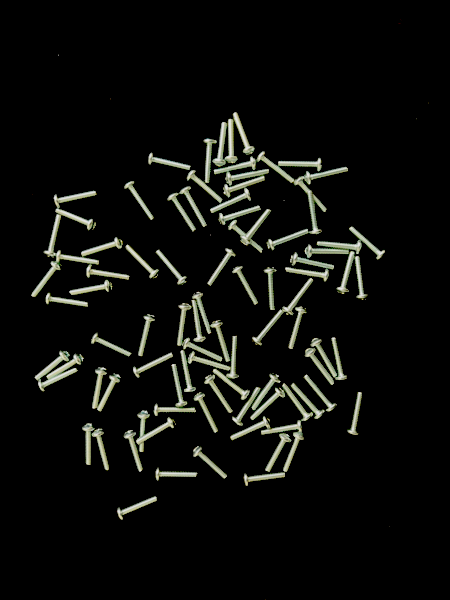longscrew: (293, 178, 334, 217), (256, 151, 298, 186), (347, 224, 387, 259), (233, 383, 263, 428), (281, 281, 317, 317), (137, 414, 175, 448), (155, 246, 188, 285), (192, 446, 231, 479), (228, 267, 258, 309), (251, 387, 286, 423), (305, 347, 334, 389), (307, 373, 336, 415), (166, 192, 198, 230), (180, 187, 212, 225), (126, 242, 158, 280), (252, 371, 279, 416), (243, 207, 271, 249), (93, 331, 135, 359), (204, 251, 236, 287), (205, 375, 233, 416), (212, 369, 249, 400), (218, 199, 262, 225), (311, 336, 338, 378), (28, 264, 60, 299), (134, 351, 174, 379), (282, 382, 310, 421), (123, 184, 155, 218), (230, 220, 261, 255), (293, 380, 321, 418), (229, 414, 267, 442), (252, 314, 285, 346), (211, 186, 250, 213), (39, 366, 77, 393), (333, 250, 356, 294), (97, 375, 125, 411), (33, 351, 70, 378), (45, 355, 82, 382), (199, 140, 222, 182), (223, 337, 246, 379), (222, 120, 244, 163), (208, 122, 230, 165), (209, 319, 231, 362), (188, 299, 210, 342), (136, 314, 158, 357), (176, 351, 198, 394), (166, 363, 188, 406), (117, 498, 158, 521), (234, 111, 256, 153), (194, 293, 216, 335), (172, 305, 194, 347), (42, 215, 63, 259), (196, 393, 218, 434), (75, 239, 124, 257), (49, 210, 98, 228), (151, 468, 200, 486), (242, 471, 291, 489), (277, 155, 326, 173), (220, 166, 269, 184), (124, 428, 142, 477), (132, 408, 150, 457), (349, 390, 367, 439), (330, 335, 348, 384), (221, 178, 269, 196), (210, 159, 258, 177), (262, 418, 302, 439), (289, 307, 306, 354), (90, 369, 109, 411), (267, 230, 311, 248), (144, 153, 192, 169), (52, 190, 100, 206), (42, 296, 90, 312), (284, 431, 304, 469), (269, 433, 289, 471), (66, 280, 113, 296), (151, 404, 200, 419), (55, 252, 103, 267), (86, 266, 133, 281), (318, 237, 362, 253), (307, 244, 351, 260), (289, 253, 333, 269), (266, 266, 280, 315), (285, 266, 329, 281), (306, 169, 350, 184), (96, 426, 109, 473), (80, 423, 93, 470), (308, 194, 321, 233), (357, 256, 366, 304)
